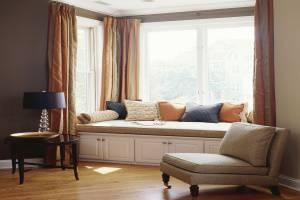window: (73, 15, 255, 113)
